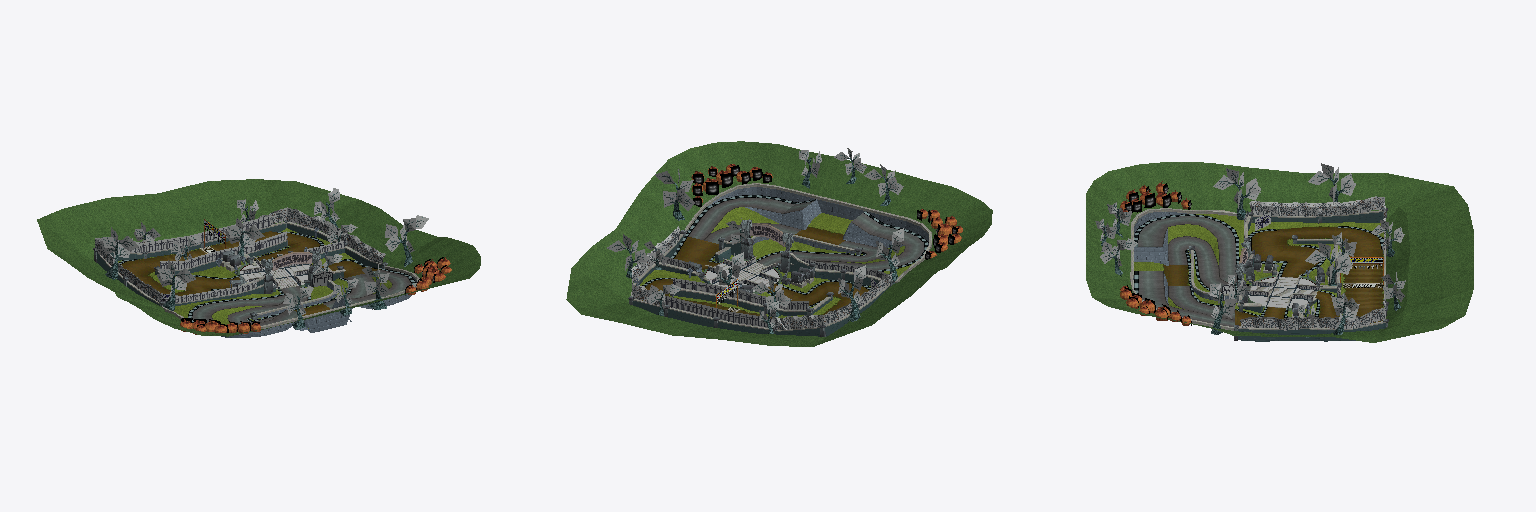
3 renders of one model, left to right at view 1: azimuth 30°, elevation 25°; view 2: azimuth 150°, elevation 25°; view 3: azimuth 270°, elevation 25°, orthographic.
Visible parts, largest first — view 1: b07; view 2: b07; view 3: b07.
Part boxes in pixels (bbox=[...]): b07: bbox=[37, 179, 480, 337]; b07: bbox=[566, 141, 992, 346]; b07: bbox=[1086, 162, 1473, 342].
Bounding box in the file's own units: 146 × 35.23 × 155.
32 materials, 27 textured.